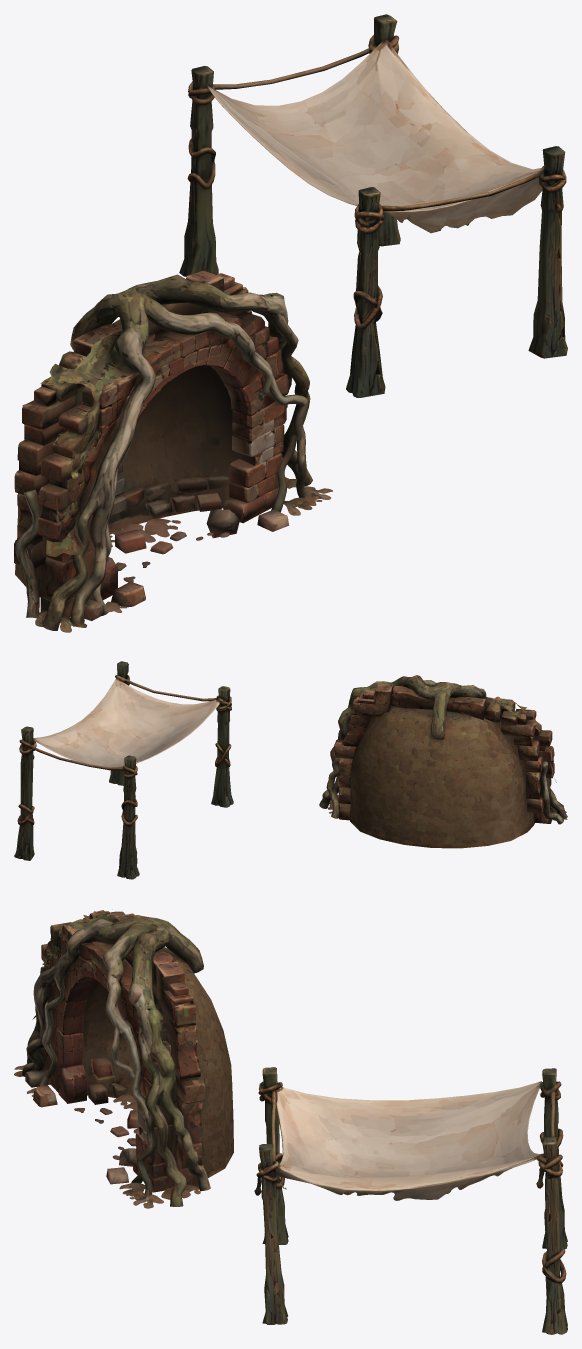
File: act1_kit_v1_R19_garden_root_bay_canopy.glb
The picture shows the model from 3 angles, top to bottom: view 1: azimuth 30°, elevation 25°; view 2: azimuth 150°, elevation 25°; view 3: azimuth 270°, elevation 25°; orthographic projection. The views are drawn at different scales.
Visible parts, largest first — view 1: tripo_320b9d0d_40d2_46b3_b777_3aef8452a2c6; view 2: tripo_320b9d0d_40d2_46b3_b777_3aef8452a2c6; view 3: tripo_320b9d0d_40d2_46b3_b777_3aef8452a2c6.
Part boxes in pixels (<box>): tripo_320b9d0d_40d2_46b3_b777_3aef8452a2c6: <box>14,14,567,632</box>; tripo_320b9d0d_40d2_46b3_b777_3aef8452a2c6: <box>14,661,567,879</box>; tripo_320b9d0d_40d2_46b3_b777_3aef8452a2c6: <box>14,910,567,1334</box>.
Bounding box in the file's own units: 0.9995 × 0.3765 × 0.853.
1 material, 1 textured.
